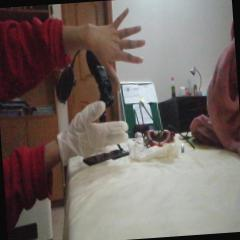gloved: (56, 99, 130, 159)
not-gloved: (76, 7, 149, 94)
